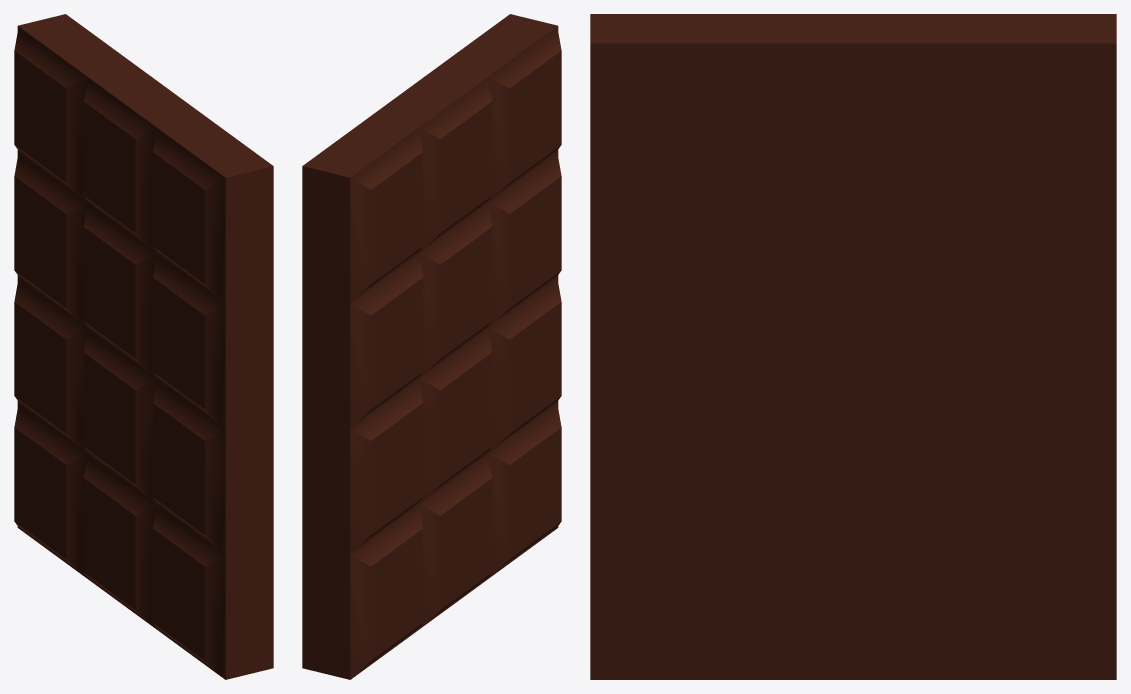
File: Chocolate_pieces.fbx
3 views of the same model, side by side, from view 1: azimuth 30°, elevation 25°; view 2: azimuth 150°, elevation 25°; view 3: azimuth 270°, elevation 25° (orthographic). The views are drawn at different scales.
Visible parts, largest first — view 1: Chocolate_piece_top, Chocolate_piece_bottom; view 2: Chocolate_piece_top, Chocolate_piece_bottom; view 3: Chocolate_piece_top, Chocolate_piece_bottom.
Part boxes in pixels (x1,y1,x2,y2): Chocolate_piece_top: (14, 14, 273, 466); Chocolate_piece_bottom: (14, 324, 273, 679); Chocolate_piece_top: (302, 14, 561, 466); Chocolate_piece_bottom: (302, 324, 561, 679); Chocolate_piece_top: (590, 14, 1116, 409); Chocolate_piece_bottom: (590, 409, 1116, 679).
Bounding box in the file's own units: 100 × 800 × 600.
